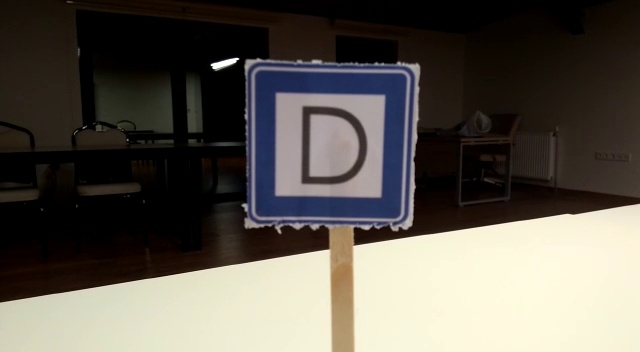durak: (244, 65, 416, 227)
